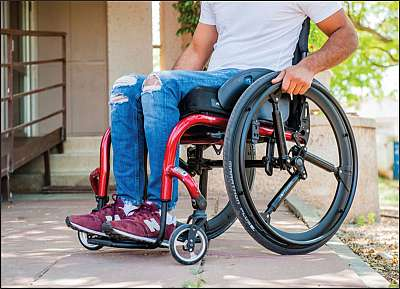wheelchair: (73, 63, 359, 259)
